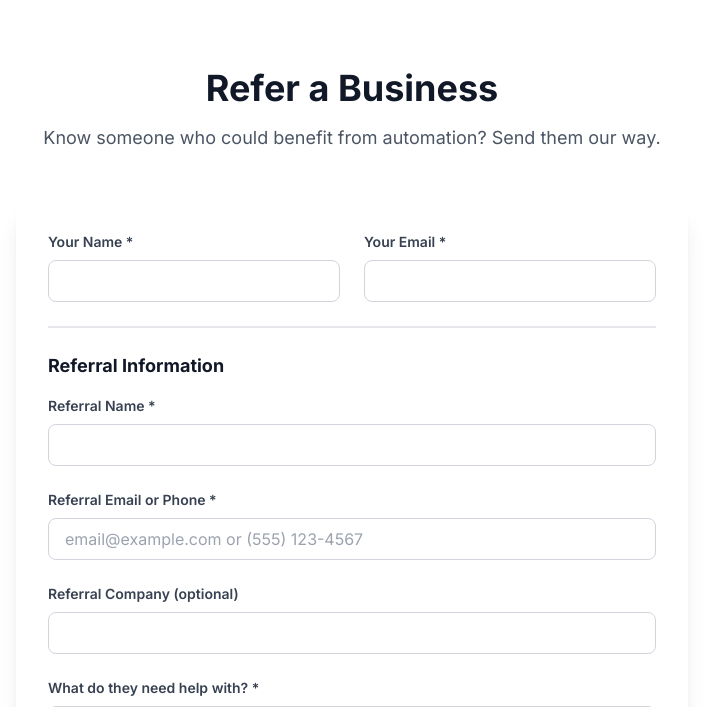
Scenario: Referrals › Form Submission › should show submitting state during submission
Type "John Doe" into the field labelled "Your Name *". click: (194, 281)
box: [48, 260, 340, 302]
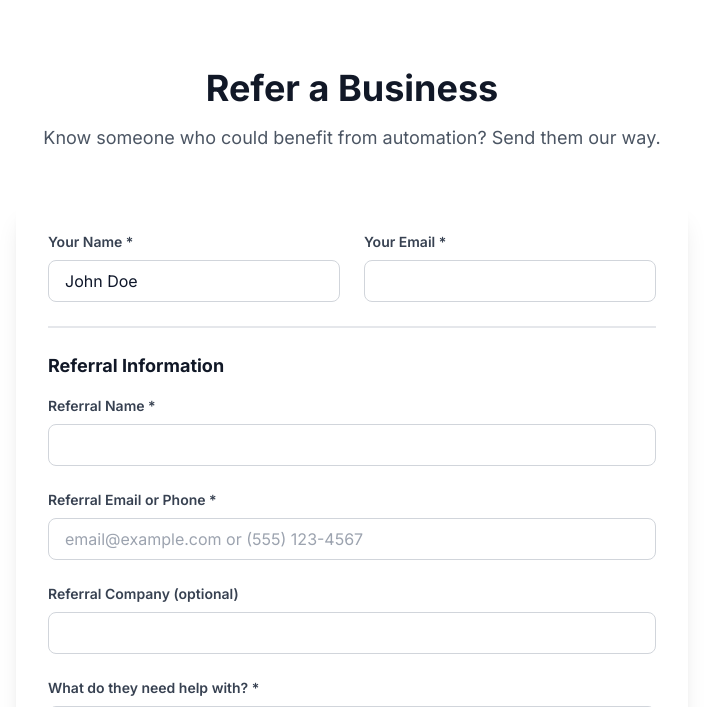
Type "john@example.com" into the field labelled "Your Email *". click: (510, 281)
box: [364, 260, 656, 302]
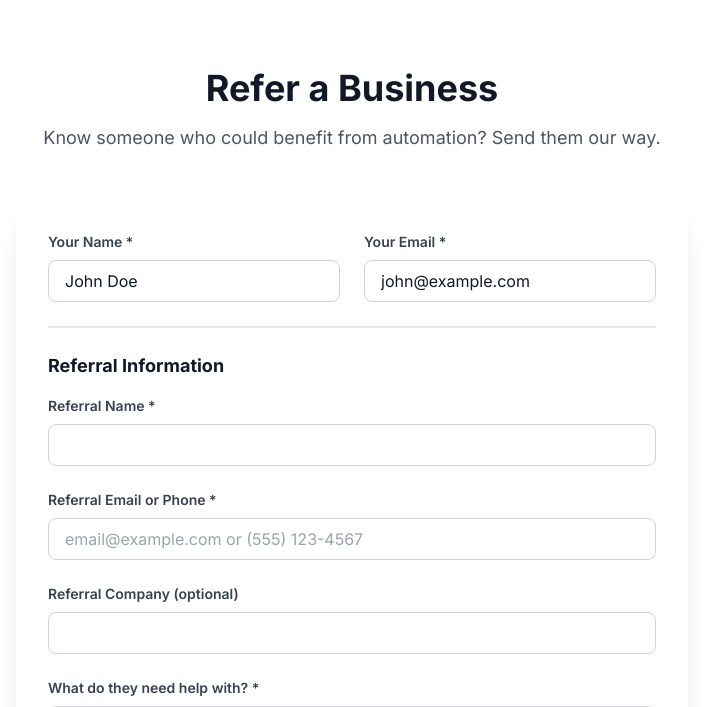
Type "Jane Smith" into the field labelled "Referral Name *". click: (352, 445)
box: [48, 424, 656, 466]
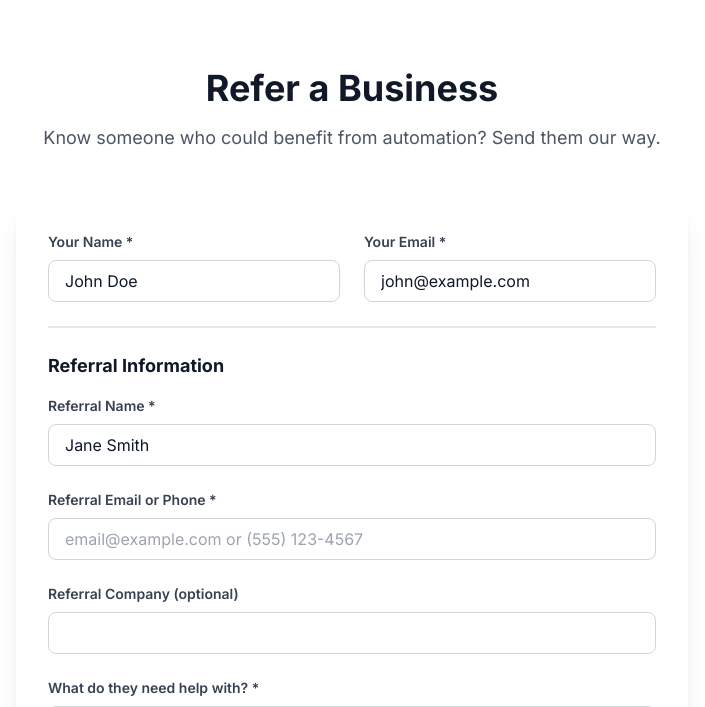
Type "jane@example.com" into the field labelled "Referral Email or Phone *". click: (352, 539)
box: [48, 518, 656, 560]
(page scrolled)
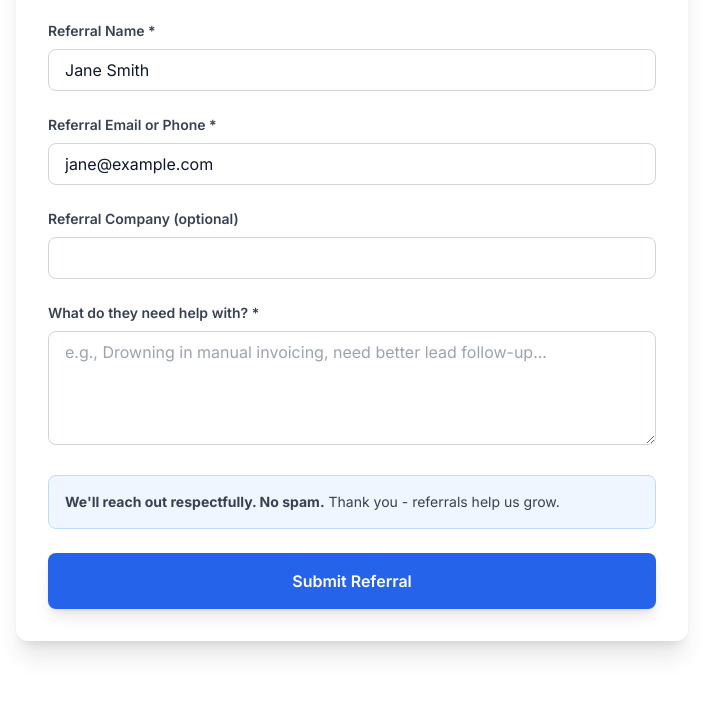
Replace the text in the text box labelled "What do they need help with? *" with "Help needed". click: (352, 388)
box: [48, 331, 656, 445]
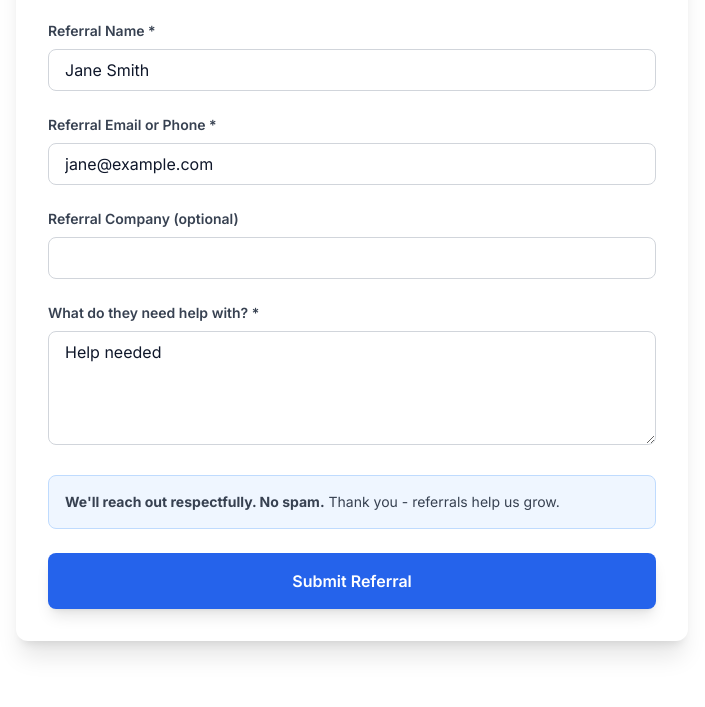
Click the button "Submit Referral". click: (352, 581)
box: [48, 553, 656, 609]
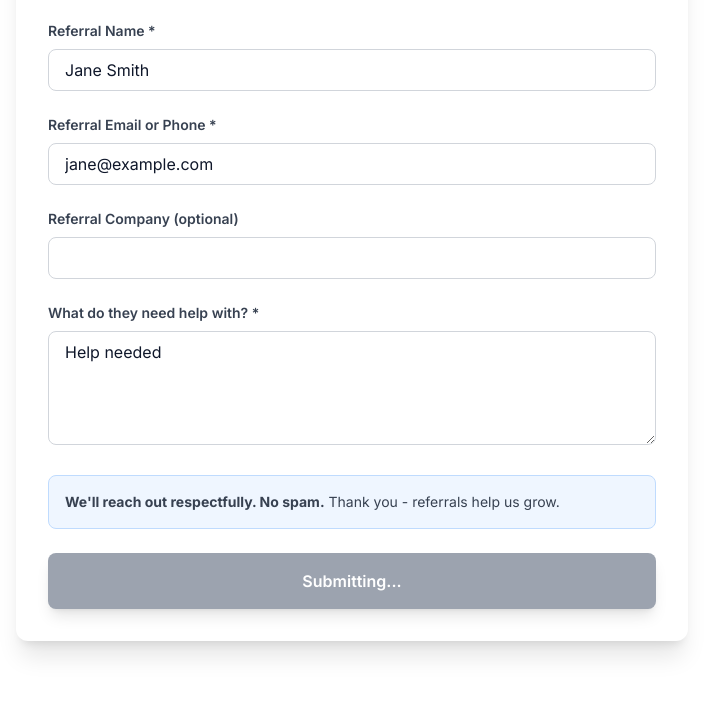
Result: the button "Submitting..." is shown at [48, 553, 656, 609]
